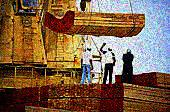helmet: (86, 44, 92, 52), (108, 45, 114, 52), (126, 48, 133, 54)
